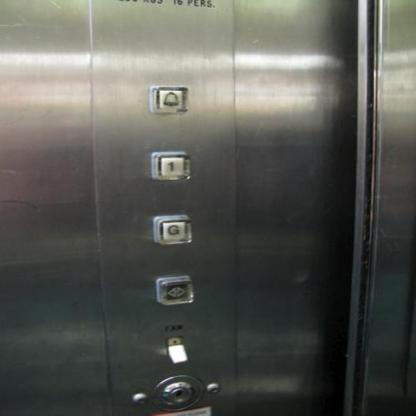1: (152, 150, 189, 180)
G: (154, 215, 192, 245)
alarm: (148, 83, 188, 114)
keyhole: (148, 373, 204, 413)
open: (155, 274, 194, 306)
switch: (160, 332, 191, 367)
